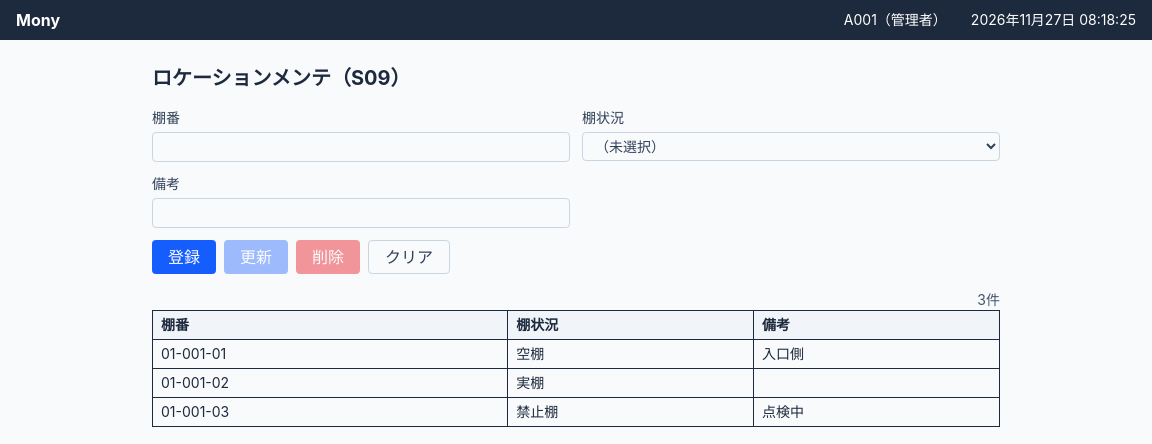
it: 行の選択 › 空棚の行を選ぶと入力欄に表示され、棚番も棚状況も編集できる
Expected: the heading "ロケーションメンテ（S09）" is shown, [152,66,411,90]
Click the text "入口側" at coordinates (877, 354), box [754,340,1000,368]
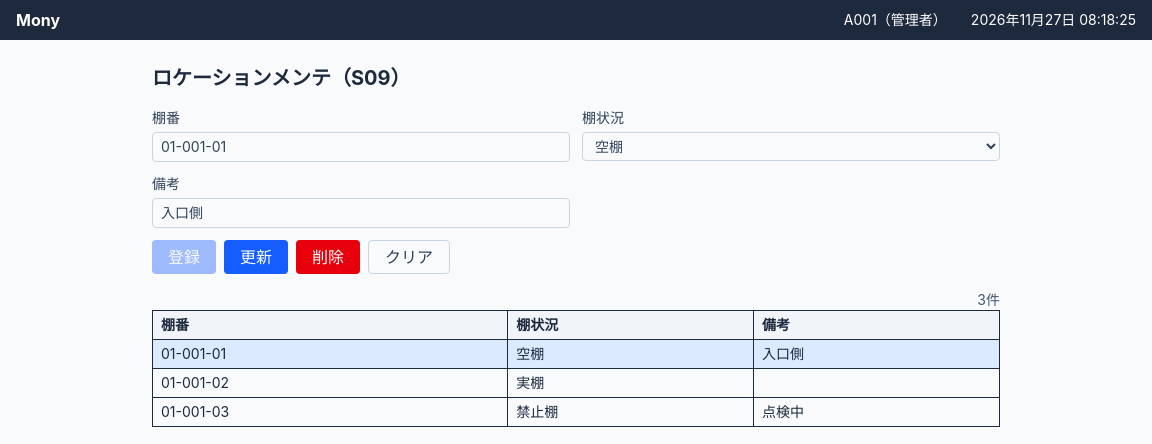
Expected: the field labelled "棚番" holds "01-001-01", [152,132,570,162]
Expected: the dropdown labelled "棚状況" shows "空棚", [582,132,1000,161]
Expected: the field labelled "備考" holds "入口側", [152,198,570,228]
